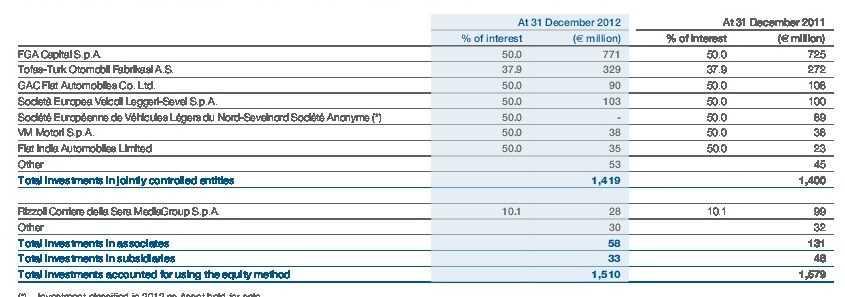table: (0, 0, 845, 297)
